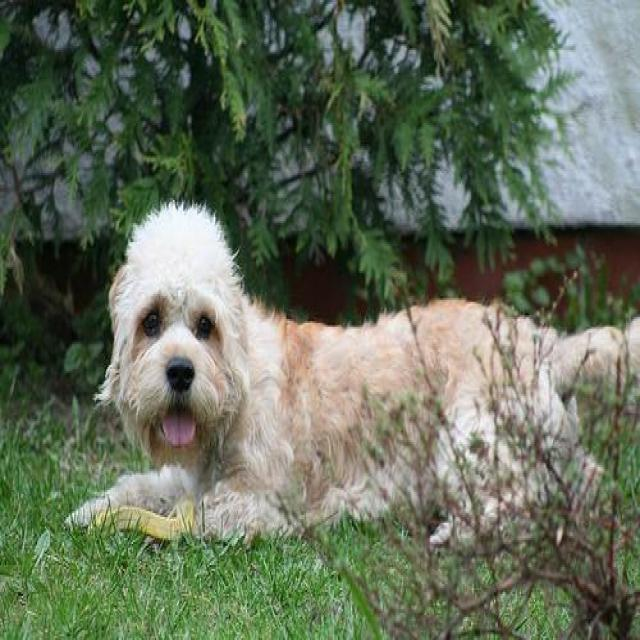dandie_dinmont: (65, 204, 639, 546)
